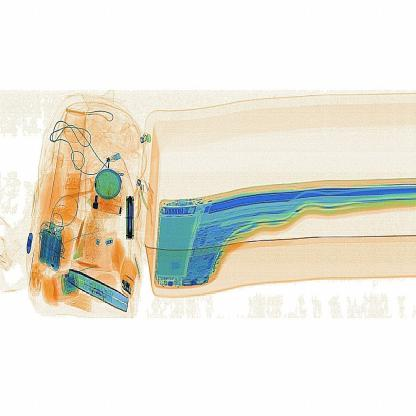scissors: (119, 186, 146, 250)
